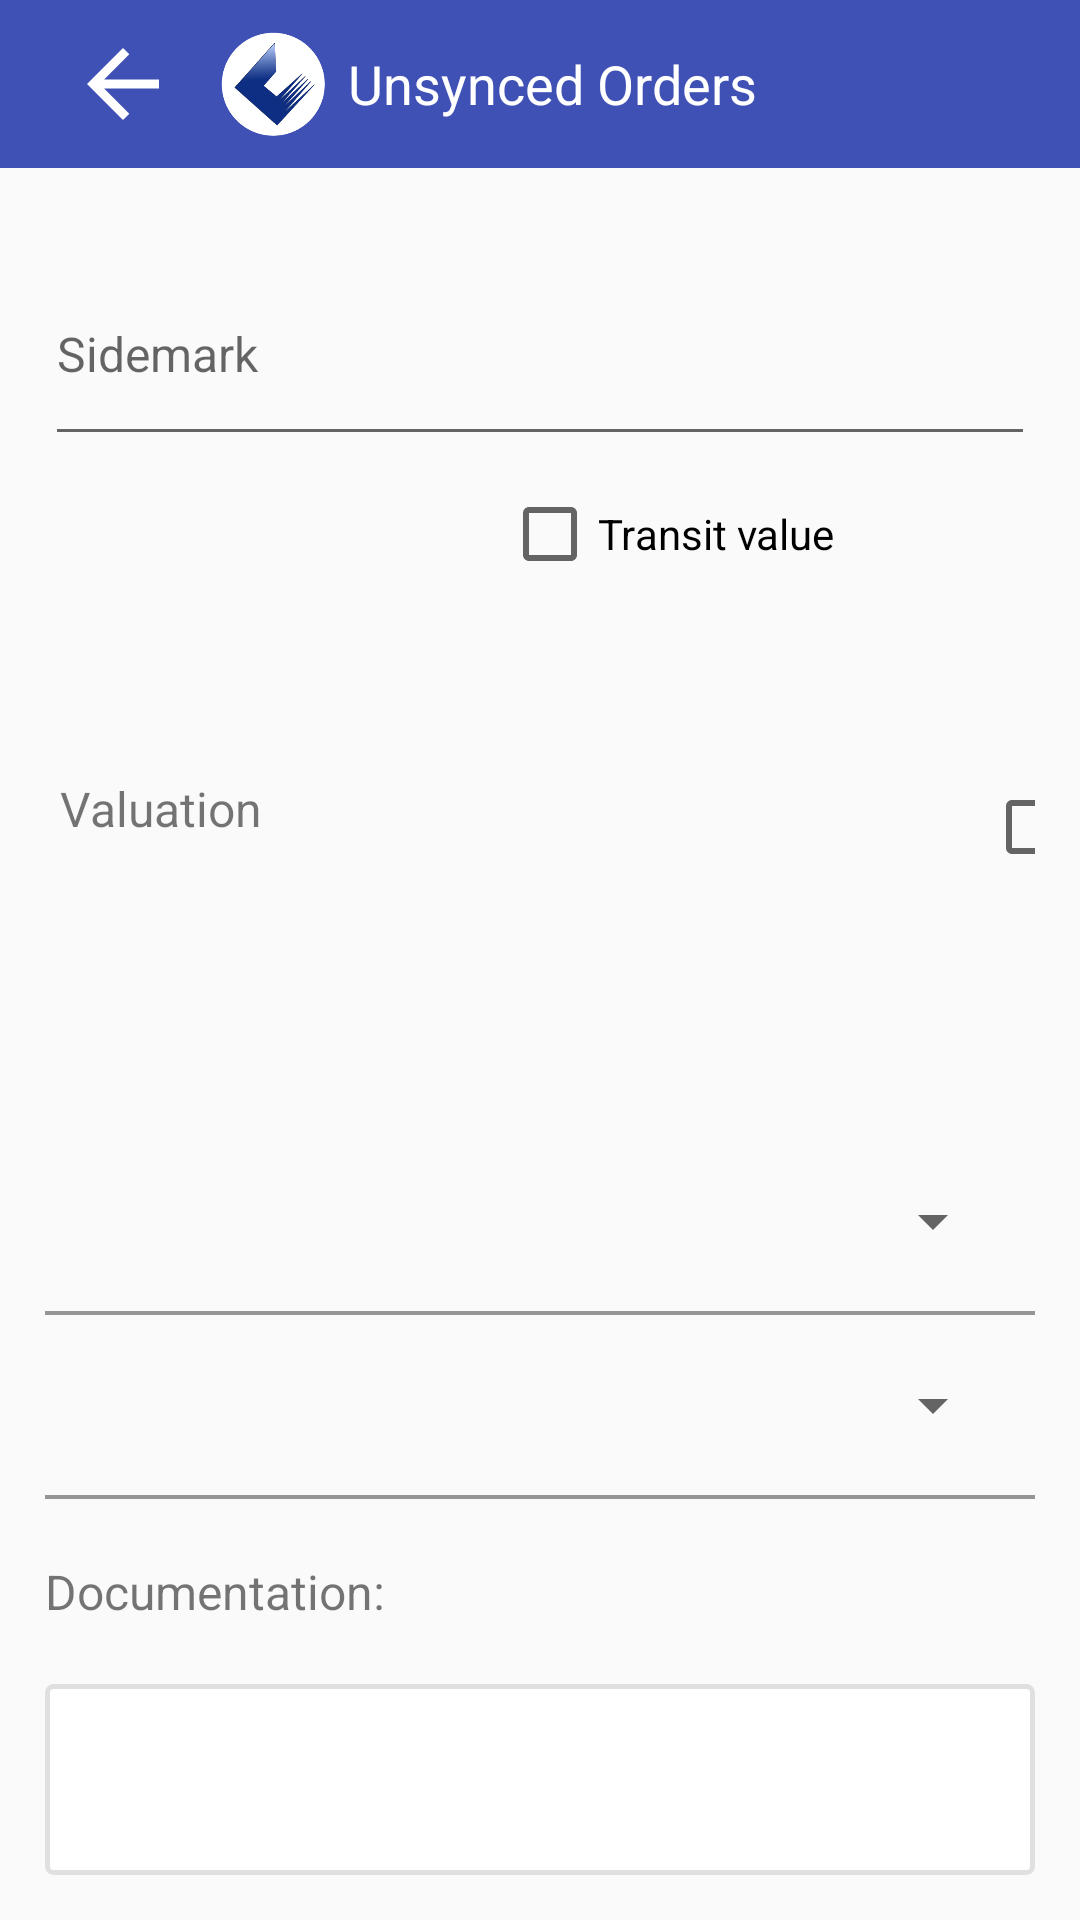

Point at icon controls on the screen. Image size 1080×1920, points as (x=x, y=y).
arrow: (x=123, y=84)
